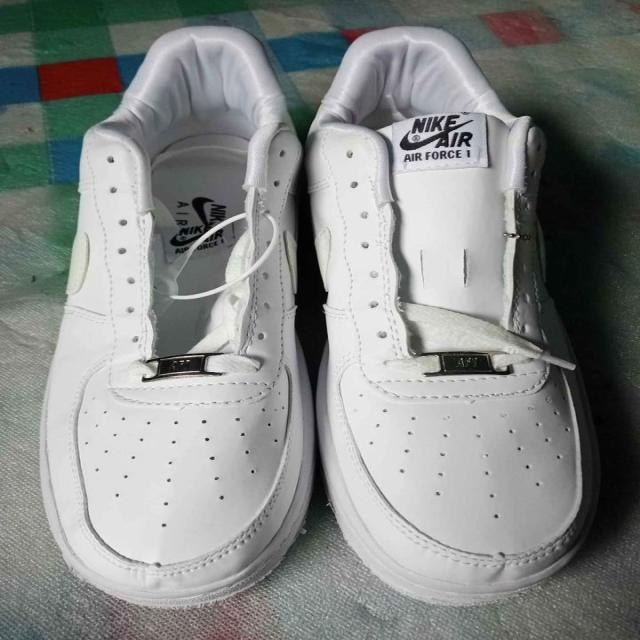nike fake air force: (298, 24, 606, 608), (28, 23, 316, 613), (299, 11, 577, 430)
